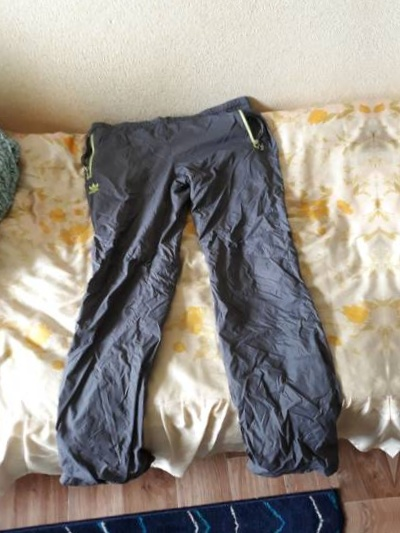Pants: (22, 68, 327, 499)
